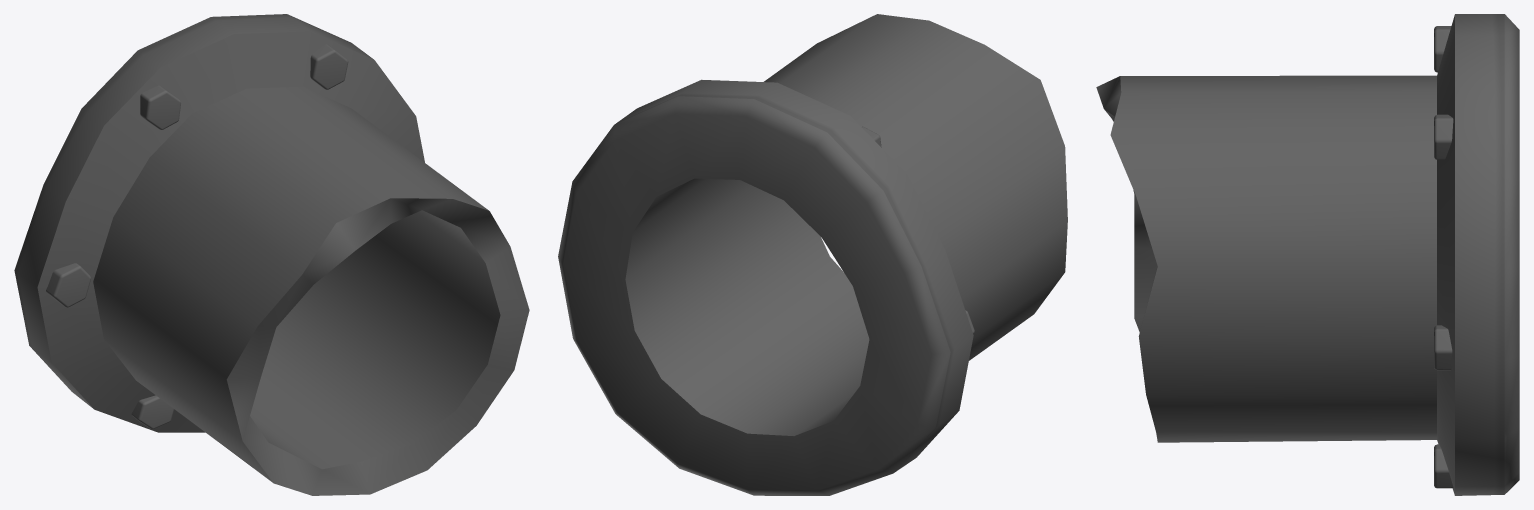
The model's file is SM_tuyaux_casser_02_low (1).fbx.
3 renders of one model, left to right at view 1: azimuth 30°, elevation 25°; view 2: azimuth 150°, elevation 25°; view 3: azimuth 270°, elevation 25°, orthographic. The views are drawn at different scales.
Visible parts, largest first — view 1: SM_tuyaux_casser_02_low; view 2: SM_tuyaux_casser_02_low; view 3: SM_tuyaux_casser_02_low.
Boxes of the visible parts, x1,y1,x2,y2 form: SM_tuyaux_casser_02_low: (14, 14, 529, 495); SM_tuyaux_casser_02_low: (558, 14, 1067, 495); SM_tuyaux_casser_02_low: (1096, 14, 1519, 495).
Bounding box in the file's own units: 0.2644 × 0.2563 × 0.2283.
1 material, 1 textured.
